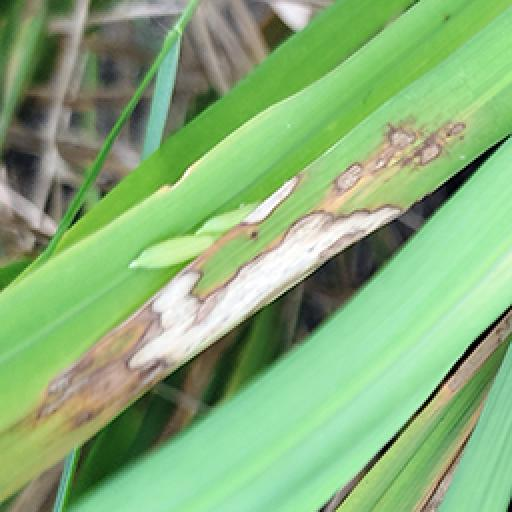Leaf Blast Disease: (28, 200, 414, 428), (408, 300, 512, 512), (318, 108, 468, 198), (216, 174, 306, 230)
